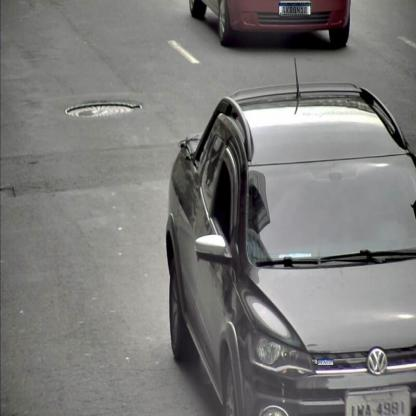PlacaM: (279, 3, 311, 15), (317, 359, 334, 365)
